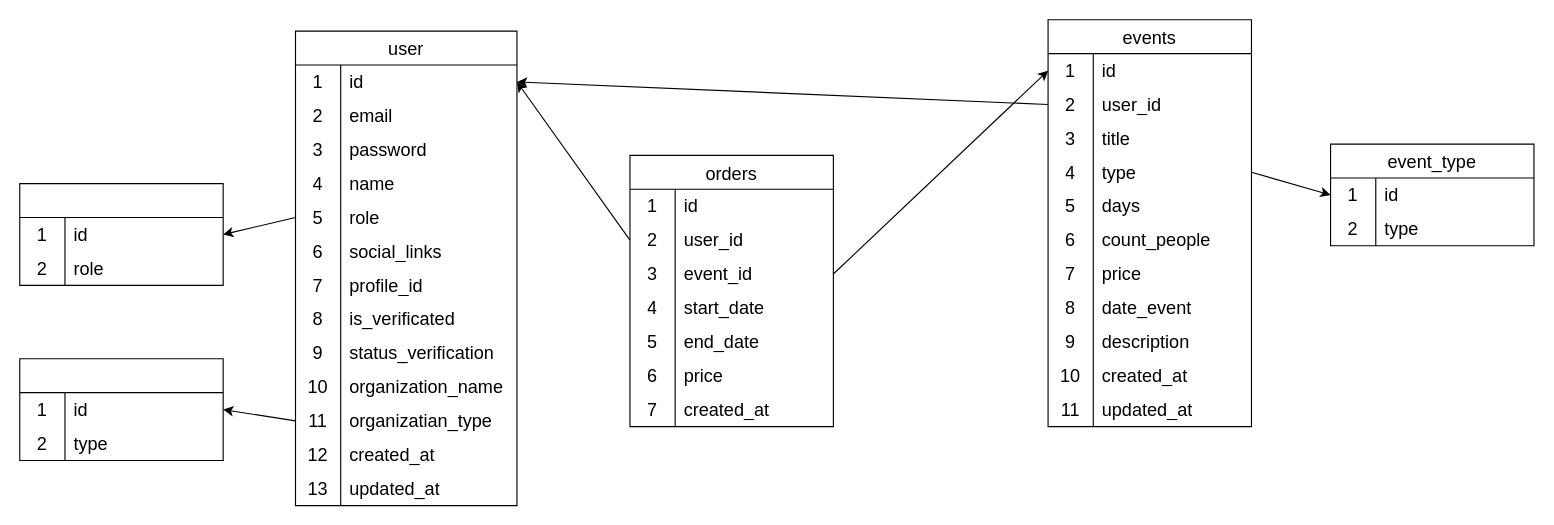
The diagram is 1554 pixels wide and 525 high, and some of its shapes have lost their labels. The shapes that lost their labels are listed below. From the top down, each one's box as (x1, y1, x2, y2) in pixels, then its label:
(19, 182, 223, 285): user_role
(19, 358, 223, 460): user_type
